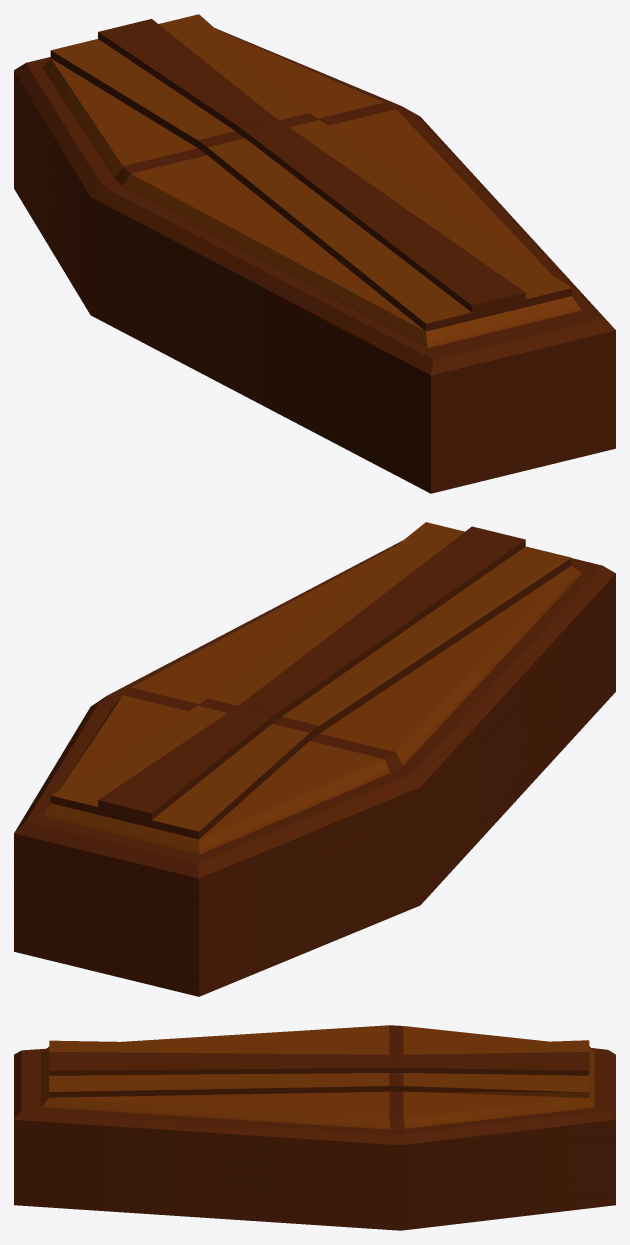
File: Tomb 01.fbx
3 views of the same model, one above another, from view 1: azimuth 30°, elevation 25°; view 2: azimuth 150°, elevation 25°; view 3: azimuth 270°, elevation 25° (orthographic). The views are drawn at different scales.
Parts seen in each view (by area): view 1: Tomb Cover 01.002, Tomb_01.002; view 2: Tomb Cover 01.002, Tomb_01.002; view 3: Tomb Cover 01.002, Tomb_01.002.
Boxes of the visible parts, bbox=[...] form: Tomb Cover 01.002: bbox=[14, 14, 615, 390]; Tomb_01.002: bbox=[14, 86, 615, 493]; Tomb Cover 01.002: bbox=[14, 522, 615, 893]; Tomb_01.002: bbox=[14, 589, 615, 996]; Tomb Cover 01.002: bbox=[14, 1025, 615, 1156]; Tomb_01.002: bbox=[14, 1131, 615, 1230].
Bounding box in the file's own units: 115 × 51.23 × 251.
